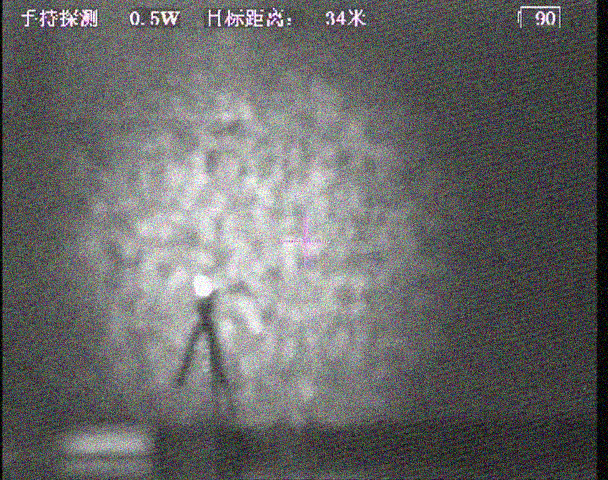my: (192, 274, 214, 298)
